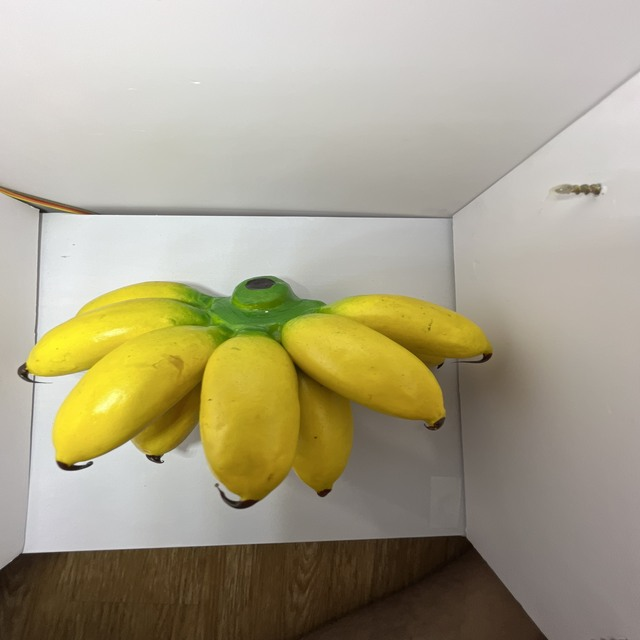Chuoi: (15, 268, 497, 515)
